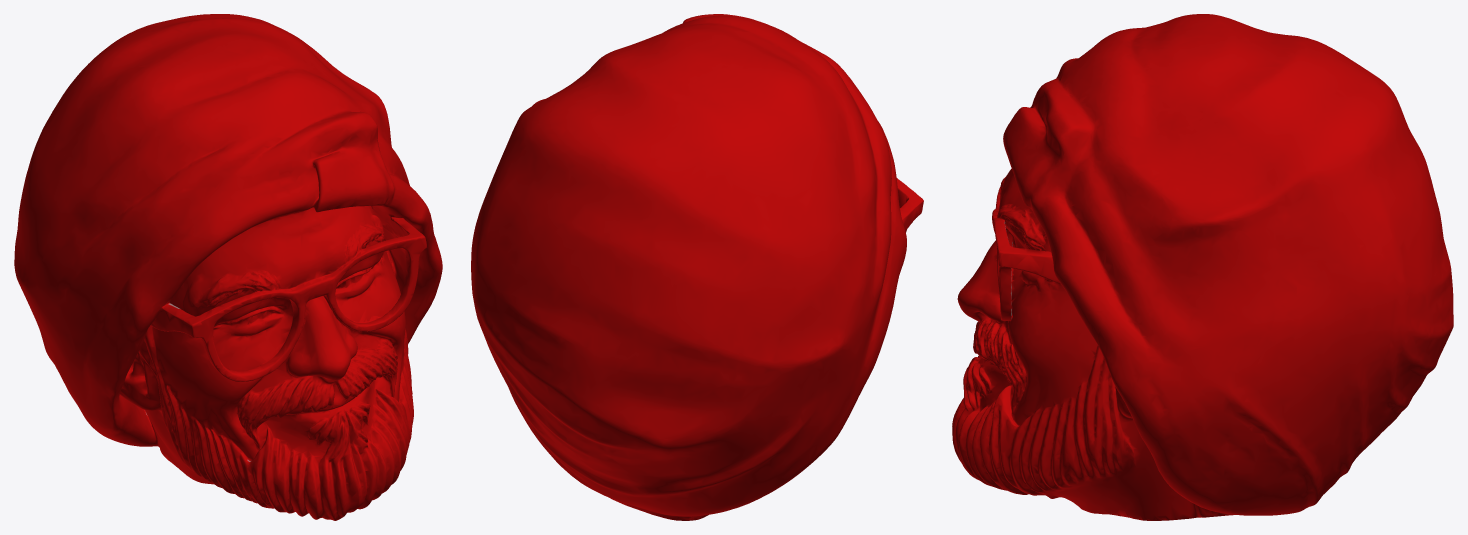
File: Joe_s.glb
3 renders of one model, left to right at view 1: azimuth 30°, elevation 25°; view 2: azimuth 150°, elevation 25°; view 3: azimuth 270°, elevation 25°, orthographic. The views are drawn at different scales.
Size of the model in its own units: 1.27 by 1.45 by 1.45.
